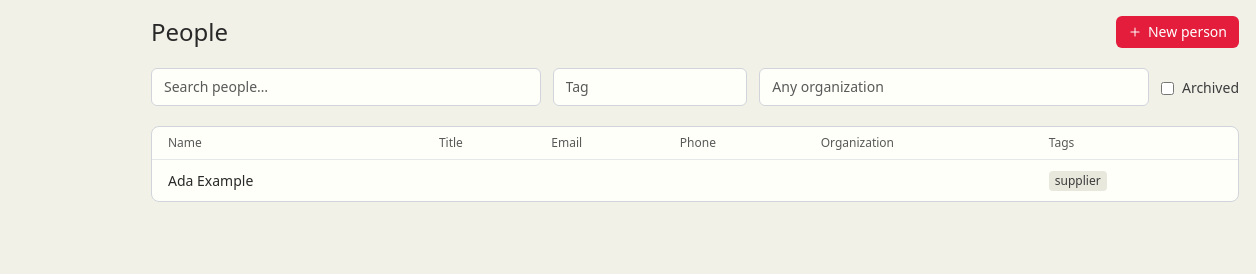
People list filters › a tag chip filters the list by that tag
Click the button "supplier" at (1078, 181), box [1049, 171, 1107, 191]
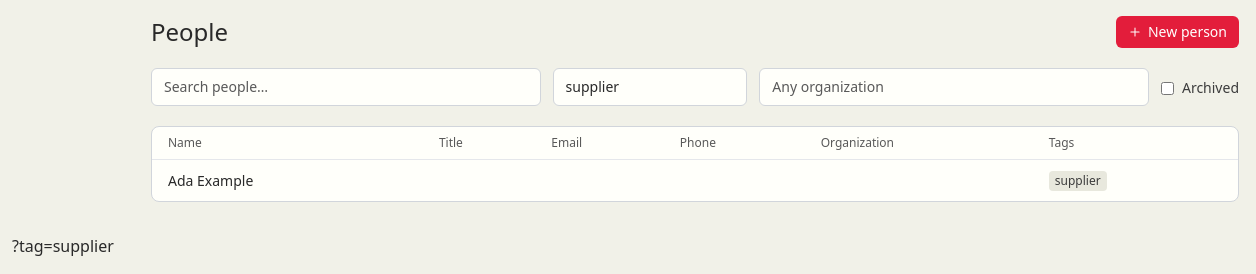
Result: the text with test id "where" reads "?tag=supplier" at [12, 235, 114, 257]
Result: the field named "Tag" holds "supplier" at [553, 68, 747, 106]
